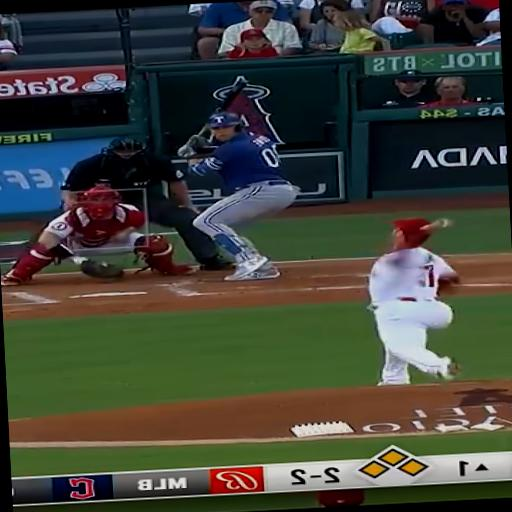bat: (217, 76, 248, 111), (178, 138, 193, 155), (198, 123, 208, 137)
